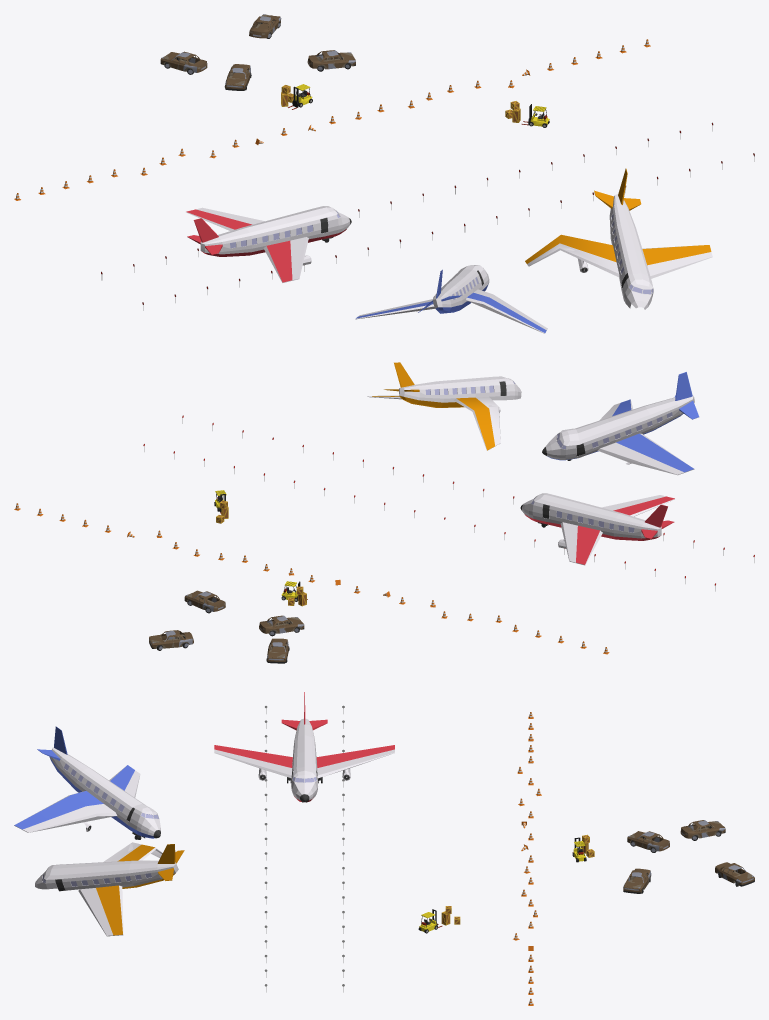
File: airportEdit.fbx
3 views of the same model, one above another, from view 1: azimuth 30°, elevation 25°; view 2: azimuth 150°, elevation 25°; view 3: azimuth 270°, elevation 25° (orthographic). The views are drawn at different scales.
Visible parts, largest first — view 1: Plane.002, Plane, Plane.001, Debris_BrokenCar.004, Debris_BrokenCar.002, Debris_BrokenCar.003, Debris_BrokenCar.001; view 2: Plane.001, Plane, Plane.002, Debris_BrokenCar.001, Debris_BrokenCar.003, Debris_BrokenCar.004, Debris_BrokenCar.002; view 3: Plane.001, Plane.002, Plane, Debris_BrokenCar.002, Debris_BrokenCar.003, Debris_BrokenCar.001, Debris_BrokenCar.004.
Boxes of the visible parts, x1,y1,x2,y2 form: Plane.002: (525,168,712,309); Plane: (186,206,351,282); Plane.001: (355,265,547,333); Debris_BrokenCar.004: (307,50,355,71); Debris_BrokenCar.002: (160,51,207,74); Debris_BrokenCar.003: (224,64,251,90); Debris_BrokenCar.001: (249,14,281,38); Plane.001: (542,372,699,475); Plane: (520,493,675,565); Plane.002: (367,362,521,450); Debris_BrokenCar.001: (149,630,193,650); Debris_BrokenCar.003: (259,615,304,636); Debris_BrokenCar.004: (184,590,225,613); Debris_BrokenCar.002: (266,638,289,663); Plane.001: (14,726,160,839); Plane.002: (35,842,184,936); Plane: (214,692,394,802); Debris_BrokenCar.002: (680,820,725,840); Debris_BrokenCar.003: (627,831,669,852); Debris_BrokenCar.001: (715,862,754,886); Debris_BrokenCar.004: (623,868,651,893).
Size of the model in its own units: 138 by 16.76 by 146.
23 materials, 1 textured.
